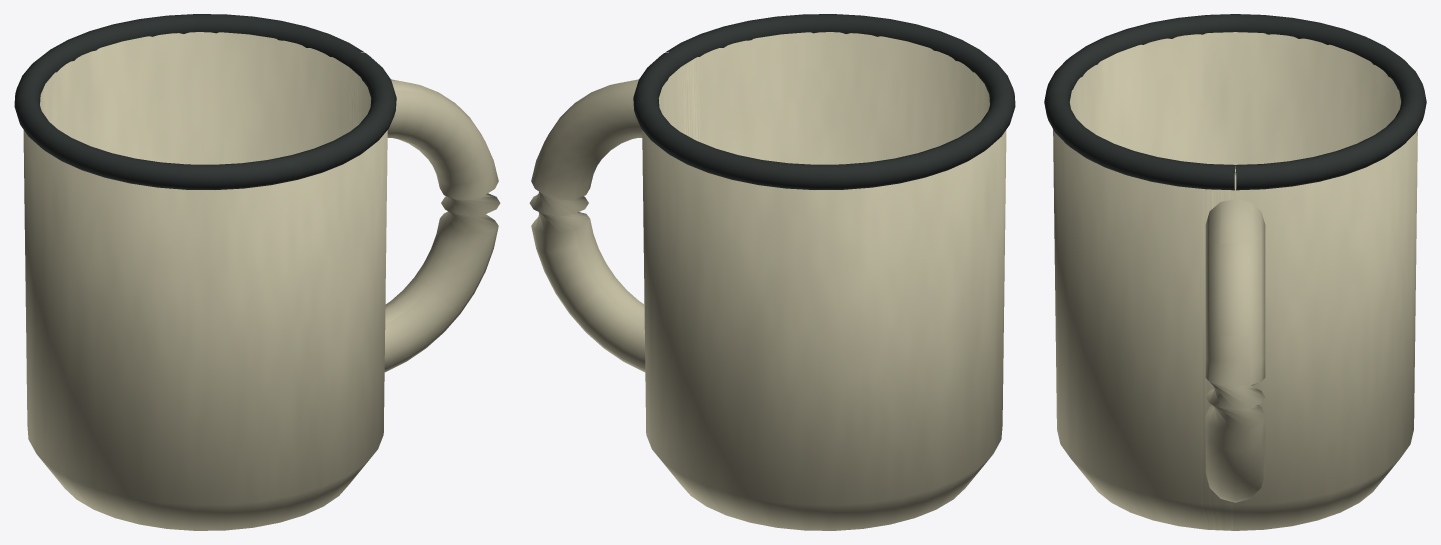
The model's file is enamel_mug.glb.
3 views of the same model, side by side, from view 1: azimuth 30°, elevation 25°; view 2: azimuth 150°, elevation 25°; view 3: azimuth 270°, elevation 25° (orthographic).
Parts seen in each view (by area): view 1: enamel_mug_Mesh; view 2: enamel_mug_Mesh; view 3: enamel_mug_Mesh.
Part boxes in pixels (x1,y1,x2,y2): enamel_mug_Mesh: [14, 14, 500, 530]; enamel_mug_Mesh: [529, 14, 1015, 530]; enamel_mug_Mesh: [1044, 14, 1426, 530].
Size of the model in its own units: 0.124 by 0.098 by 0.09.
2 materials, 2 textured.
